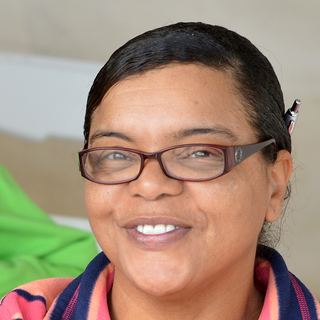eye: (166, 141, 224, 169), (92, 145, 136, 168)
